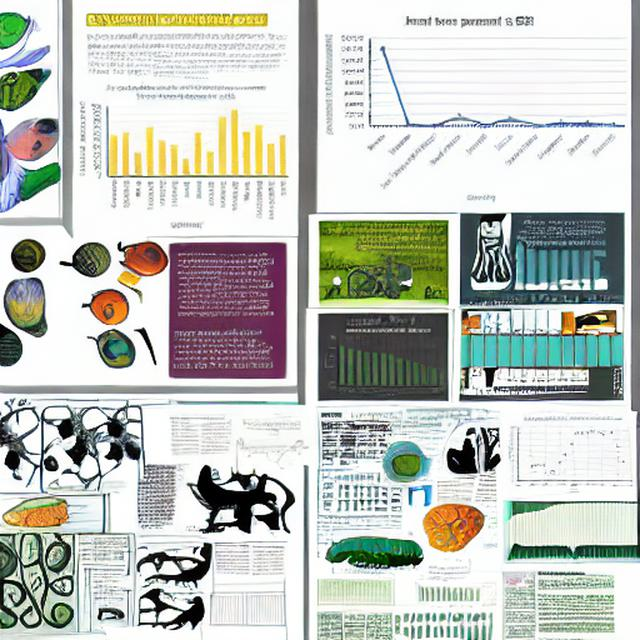Graph: (320, 9, 630, 210), (75, 81, 293, 232), (501, 414, 635, 494), (320, 325, 448, 401), (233, 419, 311, 465), (412, 574, 475, 611)
